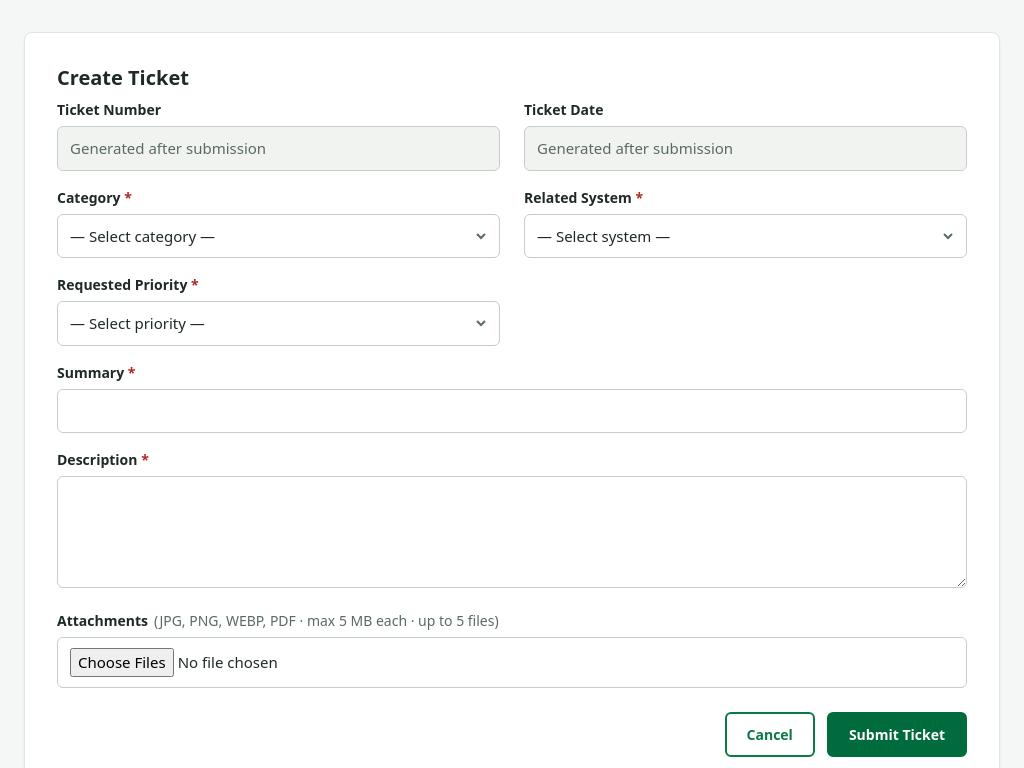
Test: CreateTicket › UI-05: successful creation shows ticket number in success panel (AC-01)
Step 1. Select "Account and Access" in the dropdown labelled "Category *" → {"x": 278, "y": 236}, box [57,214,500,258]
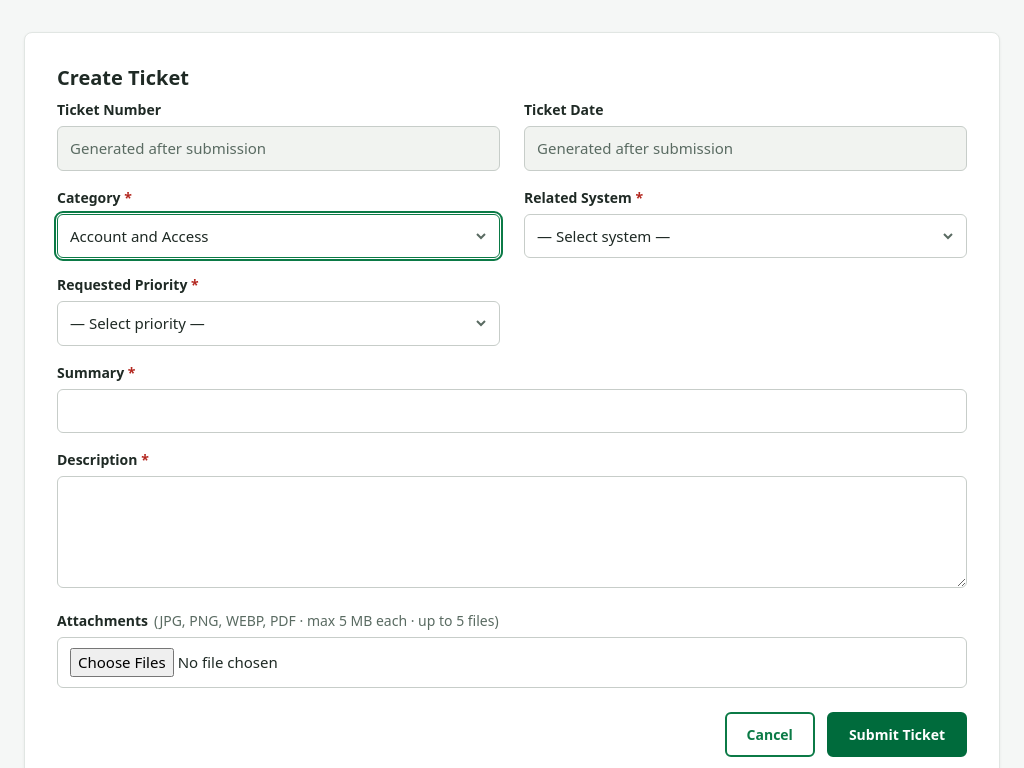
Step 2. Select "Email" in the dropdown labelled "Related System *" → {"x": 746, "y": 236}, box [524,214,967,258]
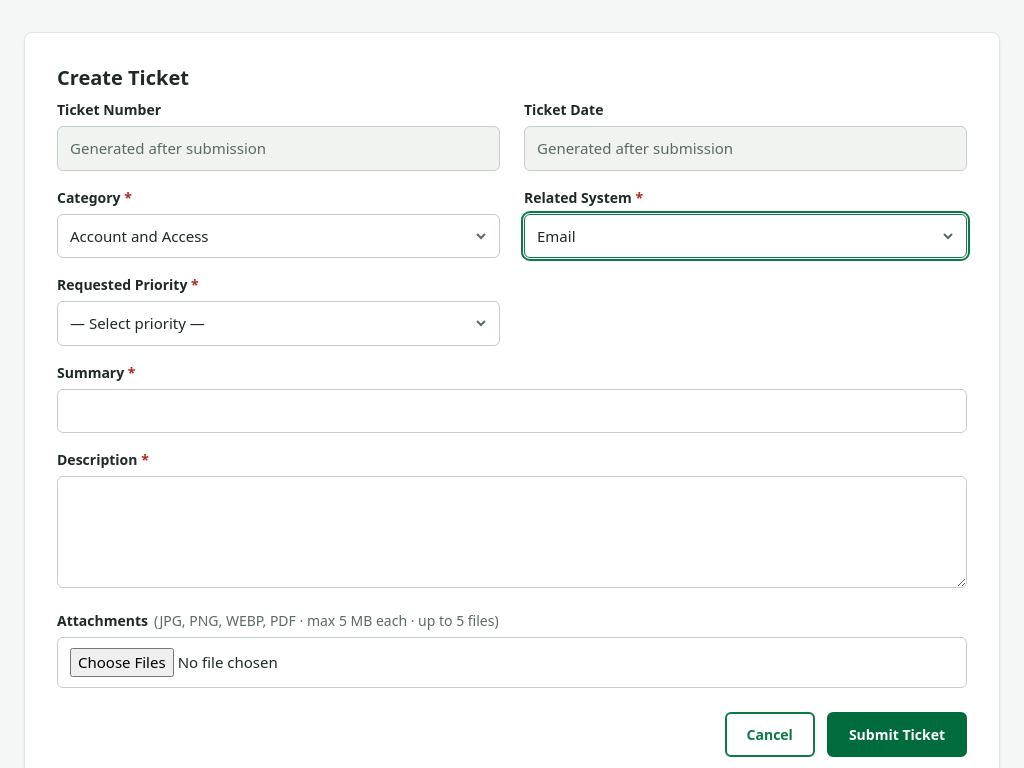
Step 3. Select "Medium" in the dropdown labelled "Requested Priority *" → {"x": 278, "y": 323}, box [57,301,500,346]
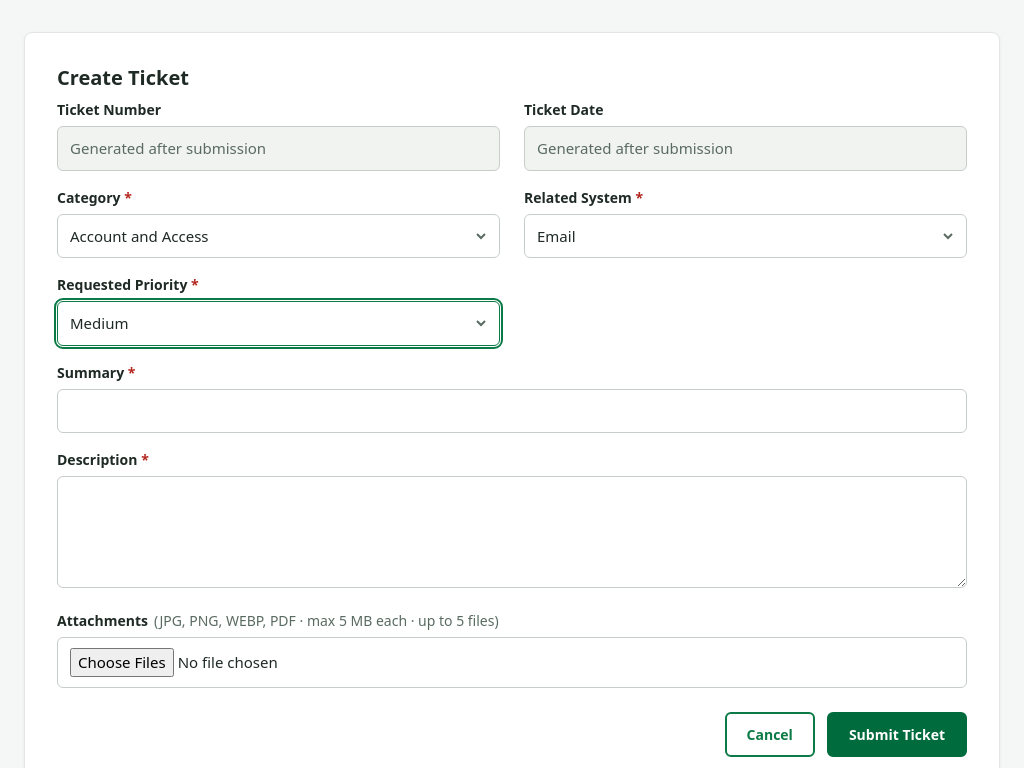
Step 4. Type "Laptop battery drains quickly" into the field labelled "Summary *" → {"x": 512, "y": 411}, box [57,388,967,433]
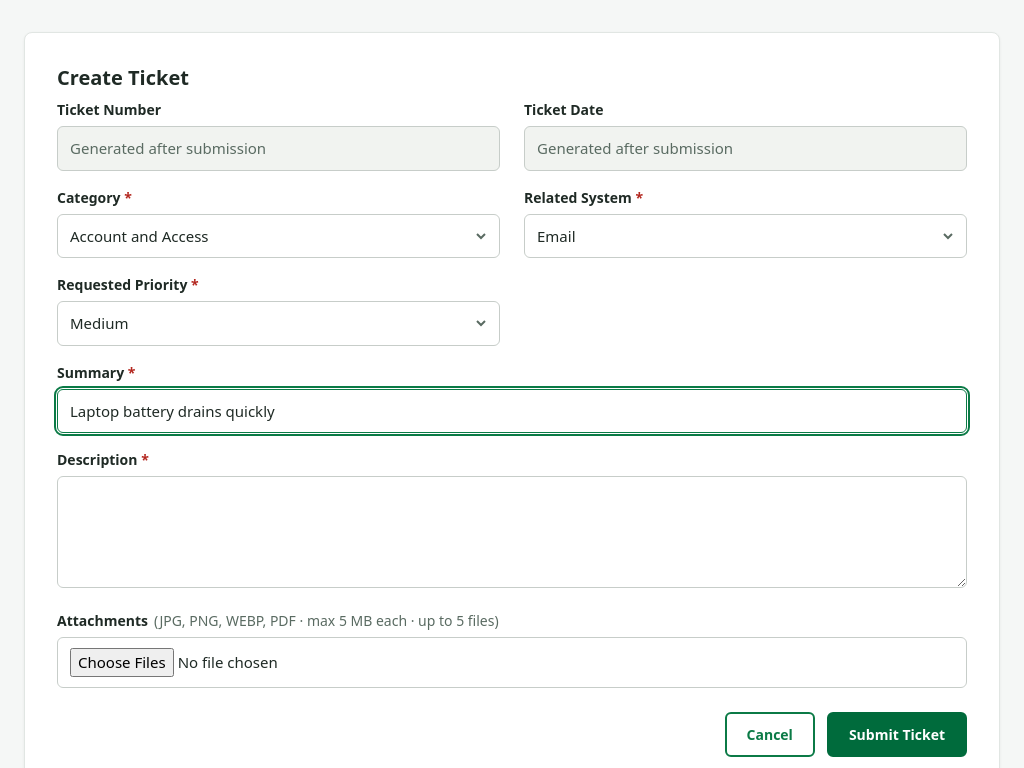
Step 5. Type "Battery drains fast even when idle, started after update." into the text box labelled "Description *" → {"x": 512, "y": 532}, box [57,476,967,588]
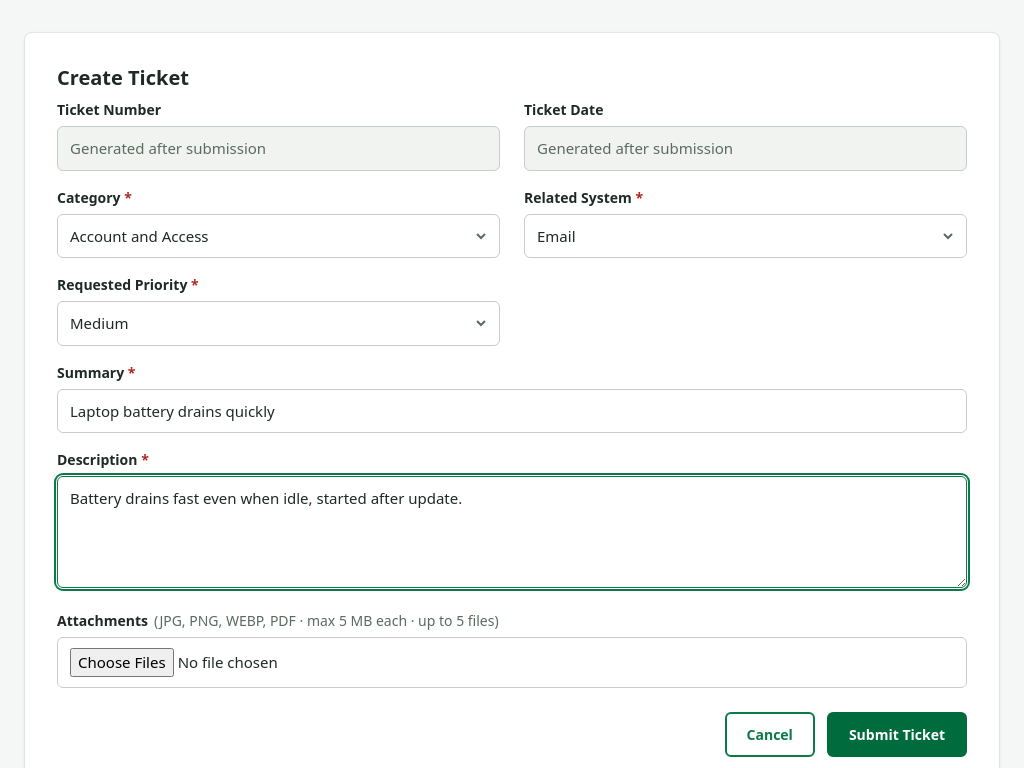
Step 6. Click the button "Submit Ticket" → {"x": 897, "y": 734}, box [827,712,967,756]
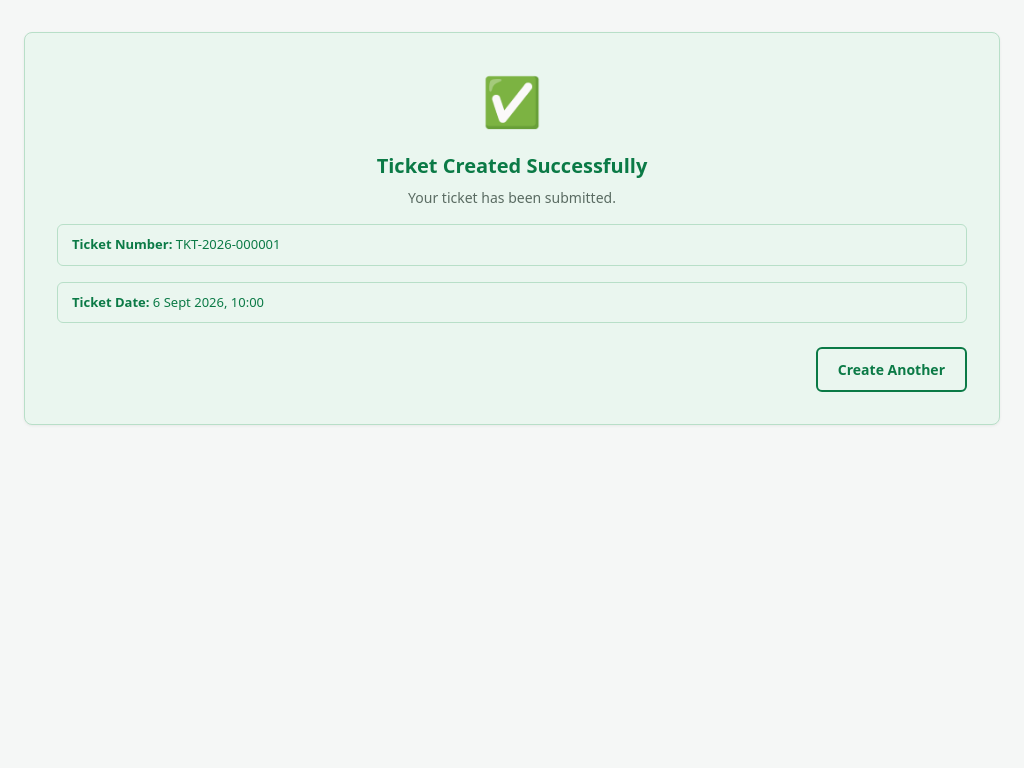
Expected: the text "TKT-2026-000001" is shown, [176,235,280,253]
Expected: the button "Create Another" is shown, [816,347,967,392]
